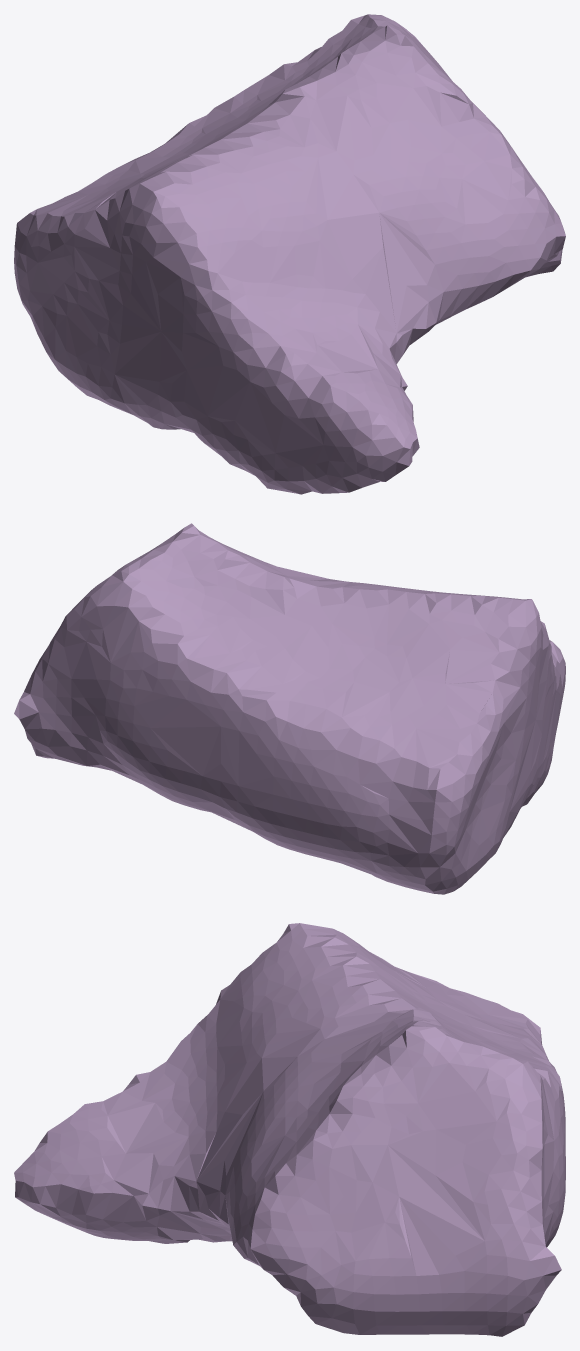
Rendered from Model_10080_LH__Auditory_cortex__middle_lateral_area_(AuML).obj.
3 renders of one model, top to bottom at view 1: azimuth 30°, elevation 25°; view 2: azimuth 150°, elevation 25°; view 3: azimuth 270°, elevation 25°, orthographic. The views are drawn at different scales.
Size of the model in its own units: 2.5 by 1.62 by 2.47.
